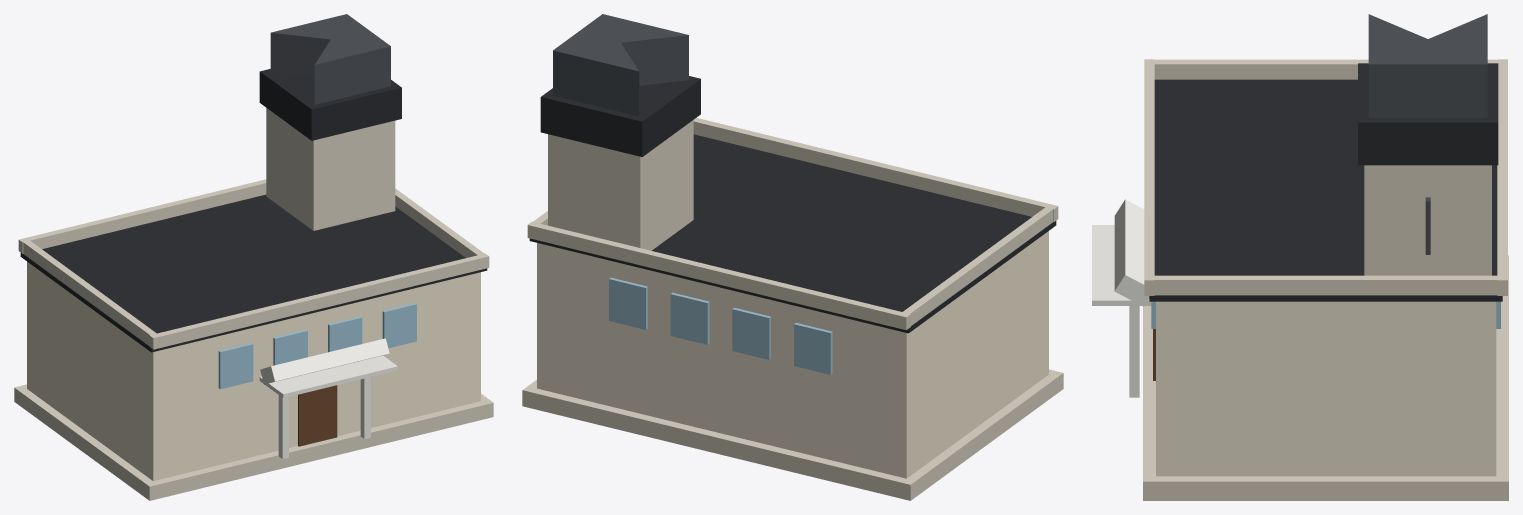
Rendered from building.funeral-home.glb.
3 views of the same model, side by side, from view 1: azimuth 30°, elevation 25°; view 2: azimuth 150°, elevation 25°; view 3: azimuth 270°, elevation 25° (orthographic). The views are drawn at different scales.
Visible parts, largest first — view 1: building.funeral-home; view 2: building.funeral-home; view 3: building.funeral-home.
Boxes of the visible parts, x1,y1,x2,y2 form: building.funeral-home: [14, 14, 493, 500]; building.funeral-home: [522, 14, 1063, 500]; building.funeral-home: [1092, 14, 1508, 500].
Bounding box in the file's own units: 12.6 × 11 × 9.8.
